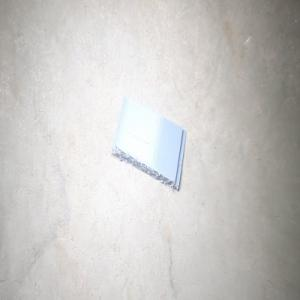PlasticPart: (110, 95, 186, 190)
